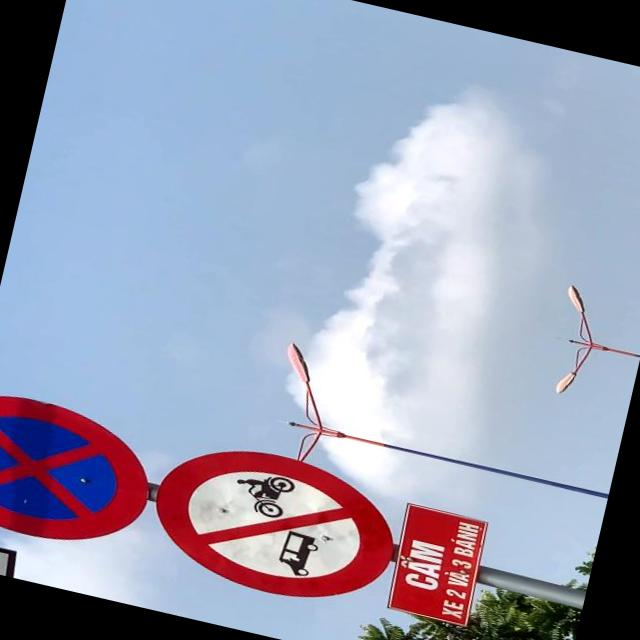P-104: (139, 428, 406, 617)
